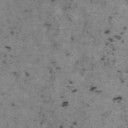oxide scale of temperature system: (2, 16, 126, 128), (70, 36, 75, 41), (11, 102, 16, 107), (46, 22, 51, 26), (50, 0, 56, 2)
